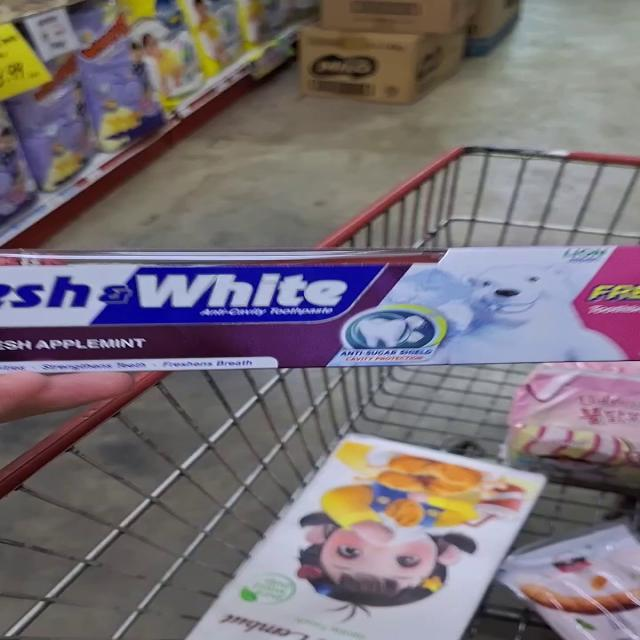Tisu: (192, 516, 524, 640), (300, 441, 546, 572)
Ubat Gigi: (225, 225, 640, 371), (0, 246, 341, 367)
